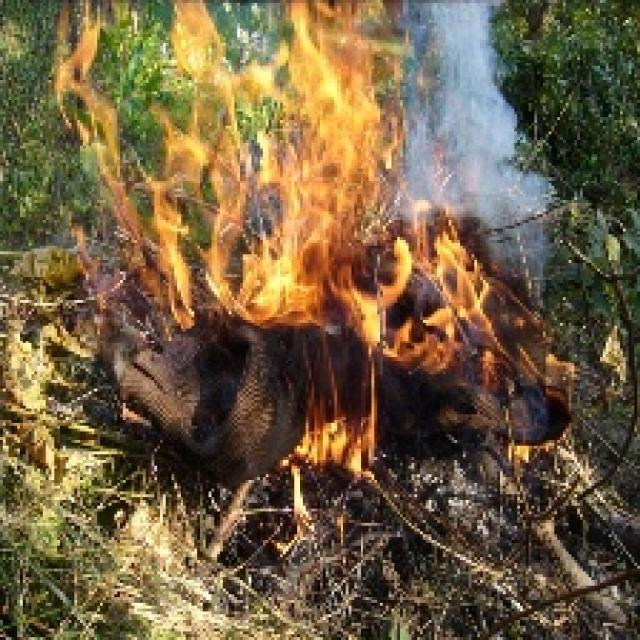Fire: (60, 0, 412, 334), (412, 203, 504, 380)
Smoke: (413, 0, 541, 204)
